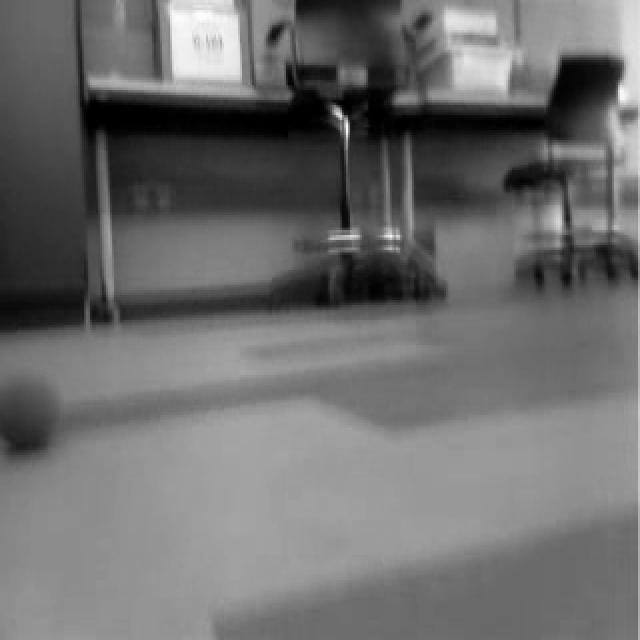ping-pong-ball: (0, 368, 57, 446)
